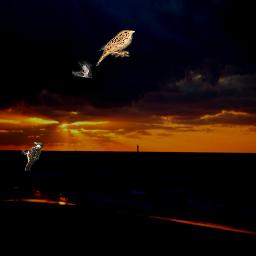Sparrow: (96, 30, 135, 66)
Swallow: (72, 60, 92, 78)
Woodpecker: (21, 142, 43, 171)
